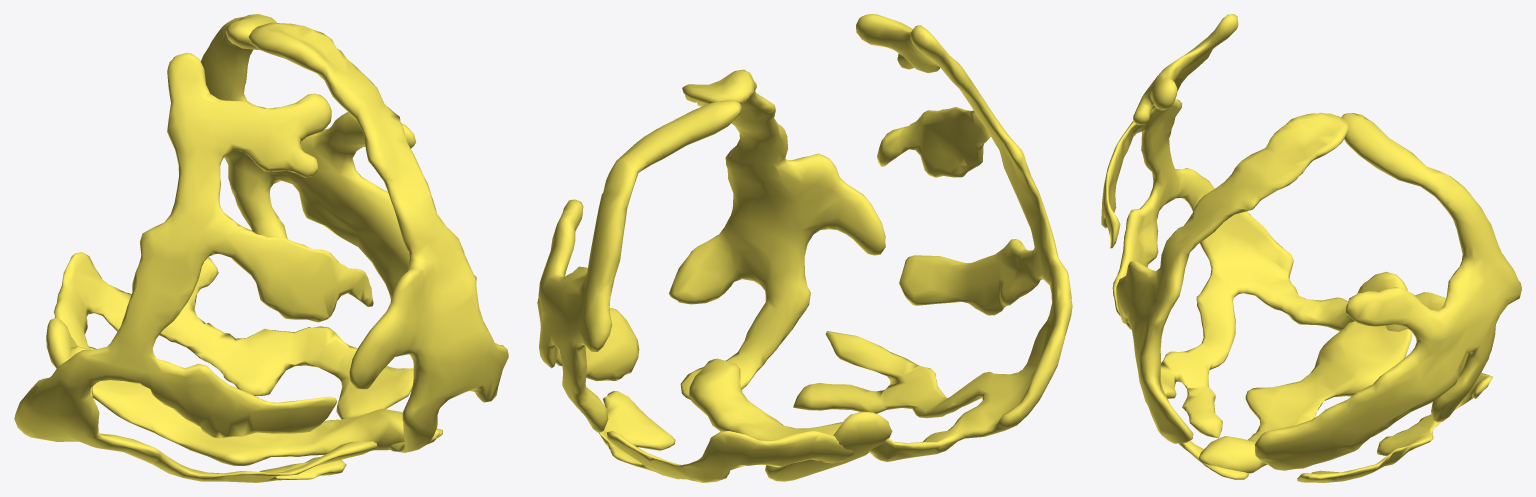
The model's file is fatdeposit.gltf.
The picture shows the model from 3 angles, left to right: view 1: azimuth 30°, elevation 25°; view 2: azimuth 150°, elevation 25°; view 3: azimuth 270°, elevation 25°; orthographic projection. The views are drawn at different scales.
Visible parts, largest first — view 1: Mball.027; view 2: Mball.027; view 3: Mball.027.
Part boxes in pixels (box(x1,y1,x2,y2)): Mball.027: box(14, 14, 508, 482); Mball.027: box(537, 14, 1072, 482); Mball.027: box(1101, 14, 1521, 482).
Bounding box in the file's own units: 3.13 × 2.94 × 2.96.
